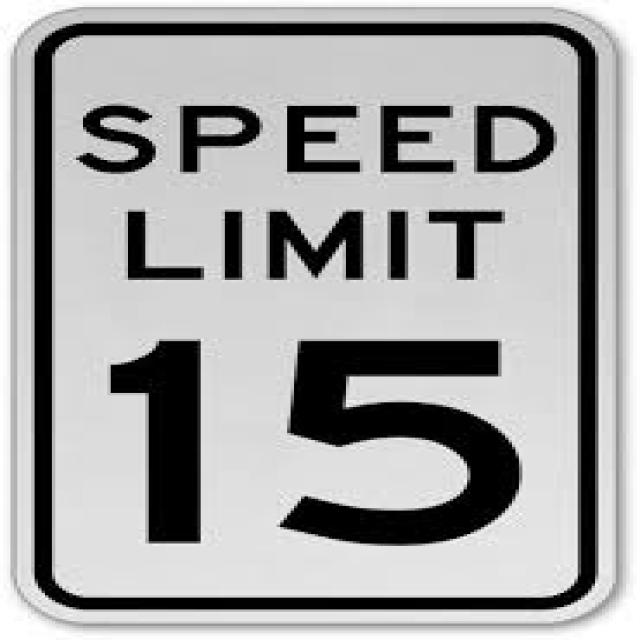speedLimit15: (19, 19, 604, 612)
